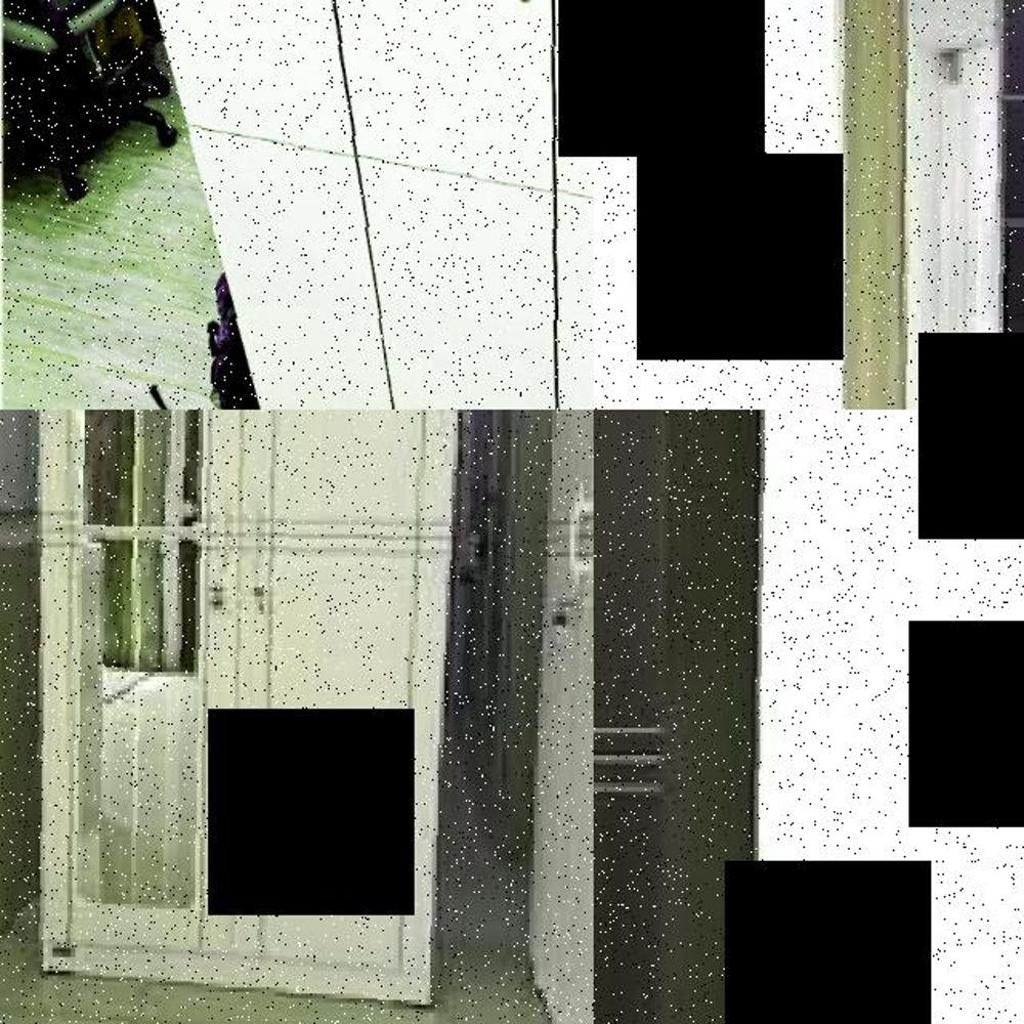cabinet: (16, 410, 472, 1011), (594, 410, 811, 1024), (826, 0, 1024, 410)
